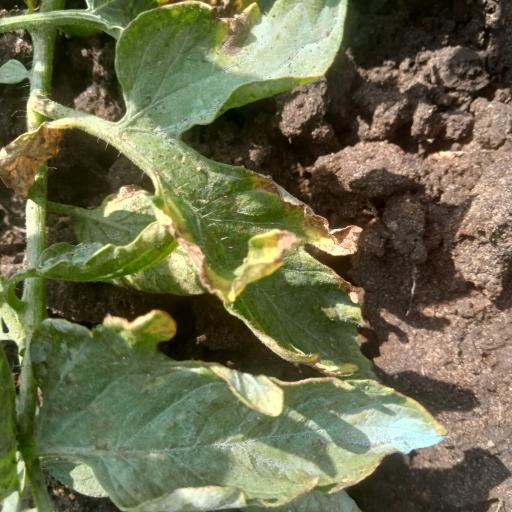Tomato_Brown_Spots: (112, 2, 395, 380), (10, 312, 444, 512)
